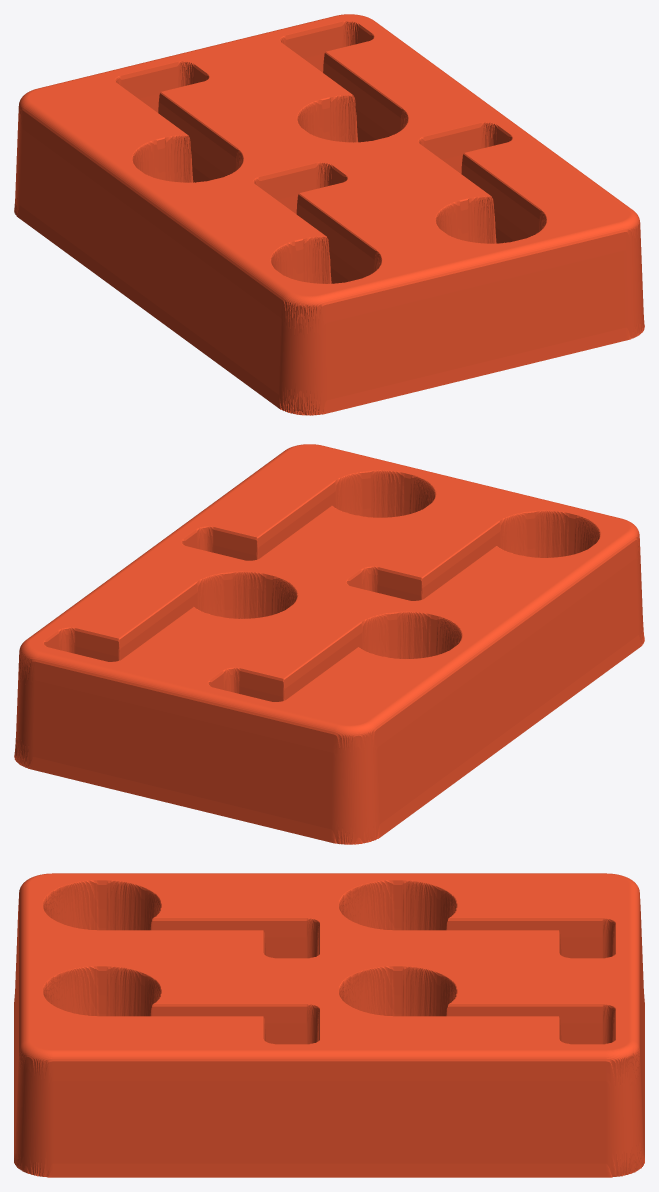
File: mold.glb
The picture shows the model from 3 angles, top to bottom: view 1: azimuth 30°, elevation 25°; view 2: azimuth 150°, elevation 25°; view 3: azimuth 270°, elevation 25°; orthographic projection. The views are drawn at different scales.
Parts seen in each view (by area): view 1: geometry_0; view 2: geometry_0; view 3: geometry_0.
Boxes of the visible parts, box(x1,y1,x2,y2) form: geometry_0: box(14, 14, 644, 415); geometry_0: box(14, 444, 644, 844); geometry_0: box(14, 873, 644, 1177).
Bounding box in the file's own units: 0.1038 × 0.031 × 0.1466.
